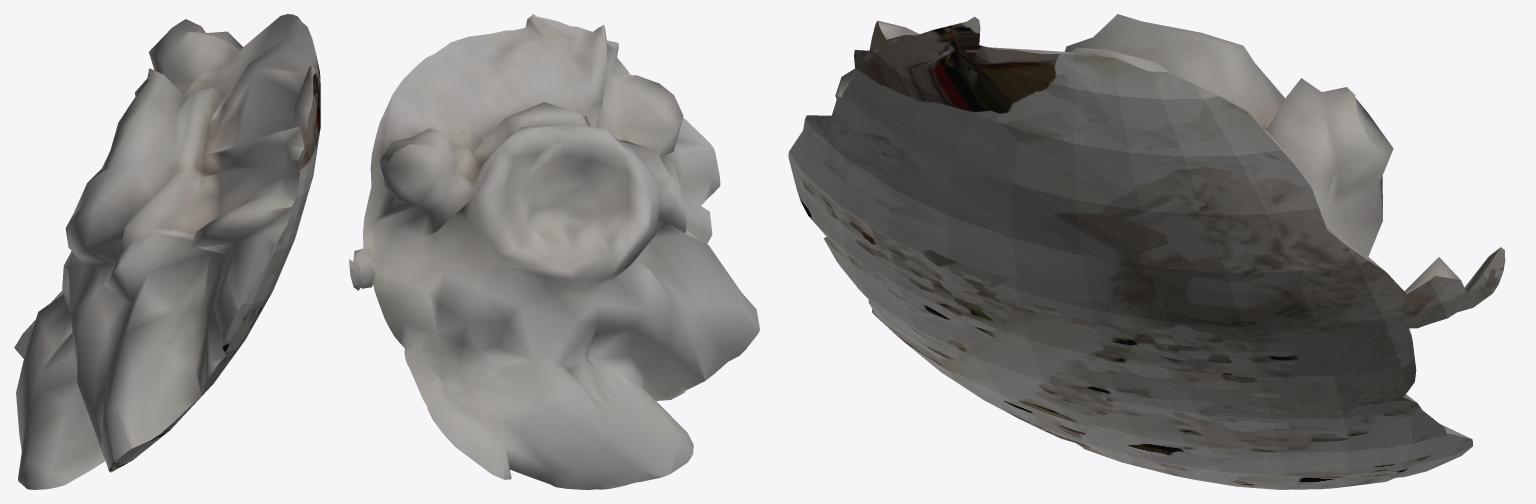
Rendered from sophie_arnould_als_iphigenie_2.glb.
The picture shows the model from 3 angles, left to right: view 1: azimuth 30°, elevation 25°; view 2: azimuth 150°, elevation 25°; view 3: azimuth 270°, elevation 25°; orthographic projection. The views are drawn at different scales.
Parts seen in each view (by area): view 1: Mesh_0.012; view 2: Mesh_0.012; view 3: Mesh_0.012.
Boxes of the visible parts, bbox=[...] form: Mesh_0.012: bbox=[14, 14, 320, 489]; Mesh_0.012: bbox=[349, 14, 759, 489]; Mesh_0.012: bbox=[788, 14, 1505, 489].
Size of the model in its own units: 0.0726 by 0.0975 by 0.1083.
Materials: 1 (1 with a texture image).
